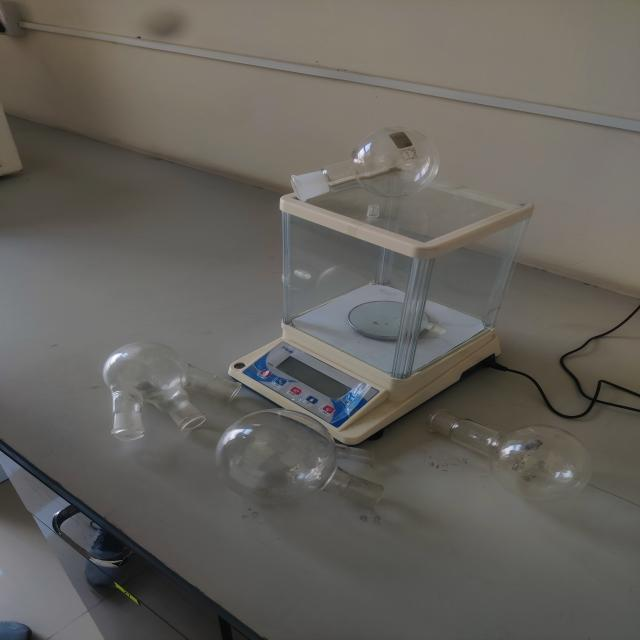Round_Bottom_Flask_Borosilicate_Glass_1_Neck: (408, 382, 608, 516), (259, 114, 490, 220)
Round_Bottom_Flask_Borosilicate_Glass_2_Neck: (205, 389, 413, 531)
Round_Bottom_Flask_Borosilicate_Glass_3_Neck: (86, 325, 260, 449)
